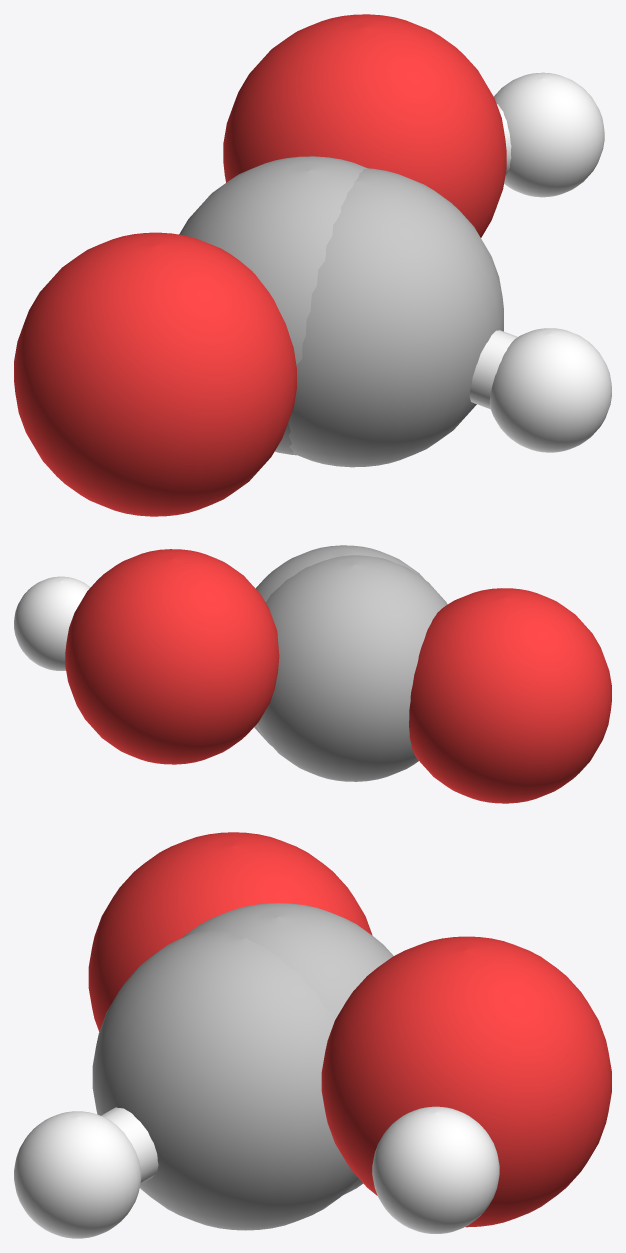
File: HCOOH.glb
The picture shows the model from 3 angles, top to bottom: view 1: azimuth 30°, elevation 25°; view 2: azimuth 150°, elevation 25°; view 3: azimuth 270°, elevation 25°; orthographic projection. The views are drawn at different scales.
Visible parts, largest first — view 1: Oxygen_ball (×3), Carbon_ball (×2), Hydrogen_ball (×3), Hydrogen_sticks_cylinder (×2); view 2: Oxygen_ball (×3), Carbon_ball (×2), Hydrogen_ball; view 3: Oxygen_ball (×3), Carbon_ball (×3), Hydrogen_ball (×3), Hydrogen_sticks_cylinder (×2).
Boxes of the visible parts, x1,y1,x2,y2 form: Oxygen_ball (×3): (14, 14, 506, 516); Carbon_ball (×2): (179, 156, 503, 467); Hydrogen_ball (×3): (489, 72, 611, 452); Hydrogen_sticks_cylinder (×2): (471, 331, 517, 409); Oxygen_ball (×3): (65, 549, 611, 803); Carbon_ball (×2): (254, 545, 447, 781); Hydrogen_ball: (14, 576, 90, 670); Oxygen_ball (×3): (88, 832, 611, 1227); Carbon_ball (×3): (92, 903, 393, 1230); Hydrogen_ball (×3): (14, 1106, 499, 1238); Hydrogen_sticks_cylinder (×2): (101, 1108, 156, 1184).
Bounding box in the file's own units: 3.93 × 1.8 × 3.
